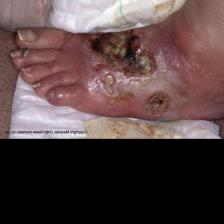Wound: (85, 31, 166, 83), (142, 89, 177, 120), (94, 69, 127, 99)
